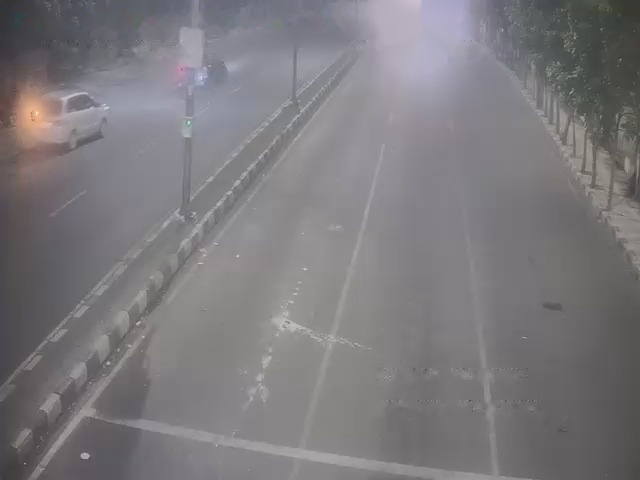Mobil: (35, 87, 106, 147)
